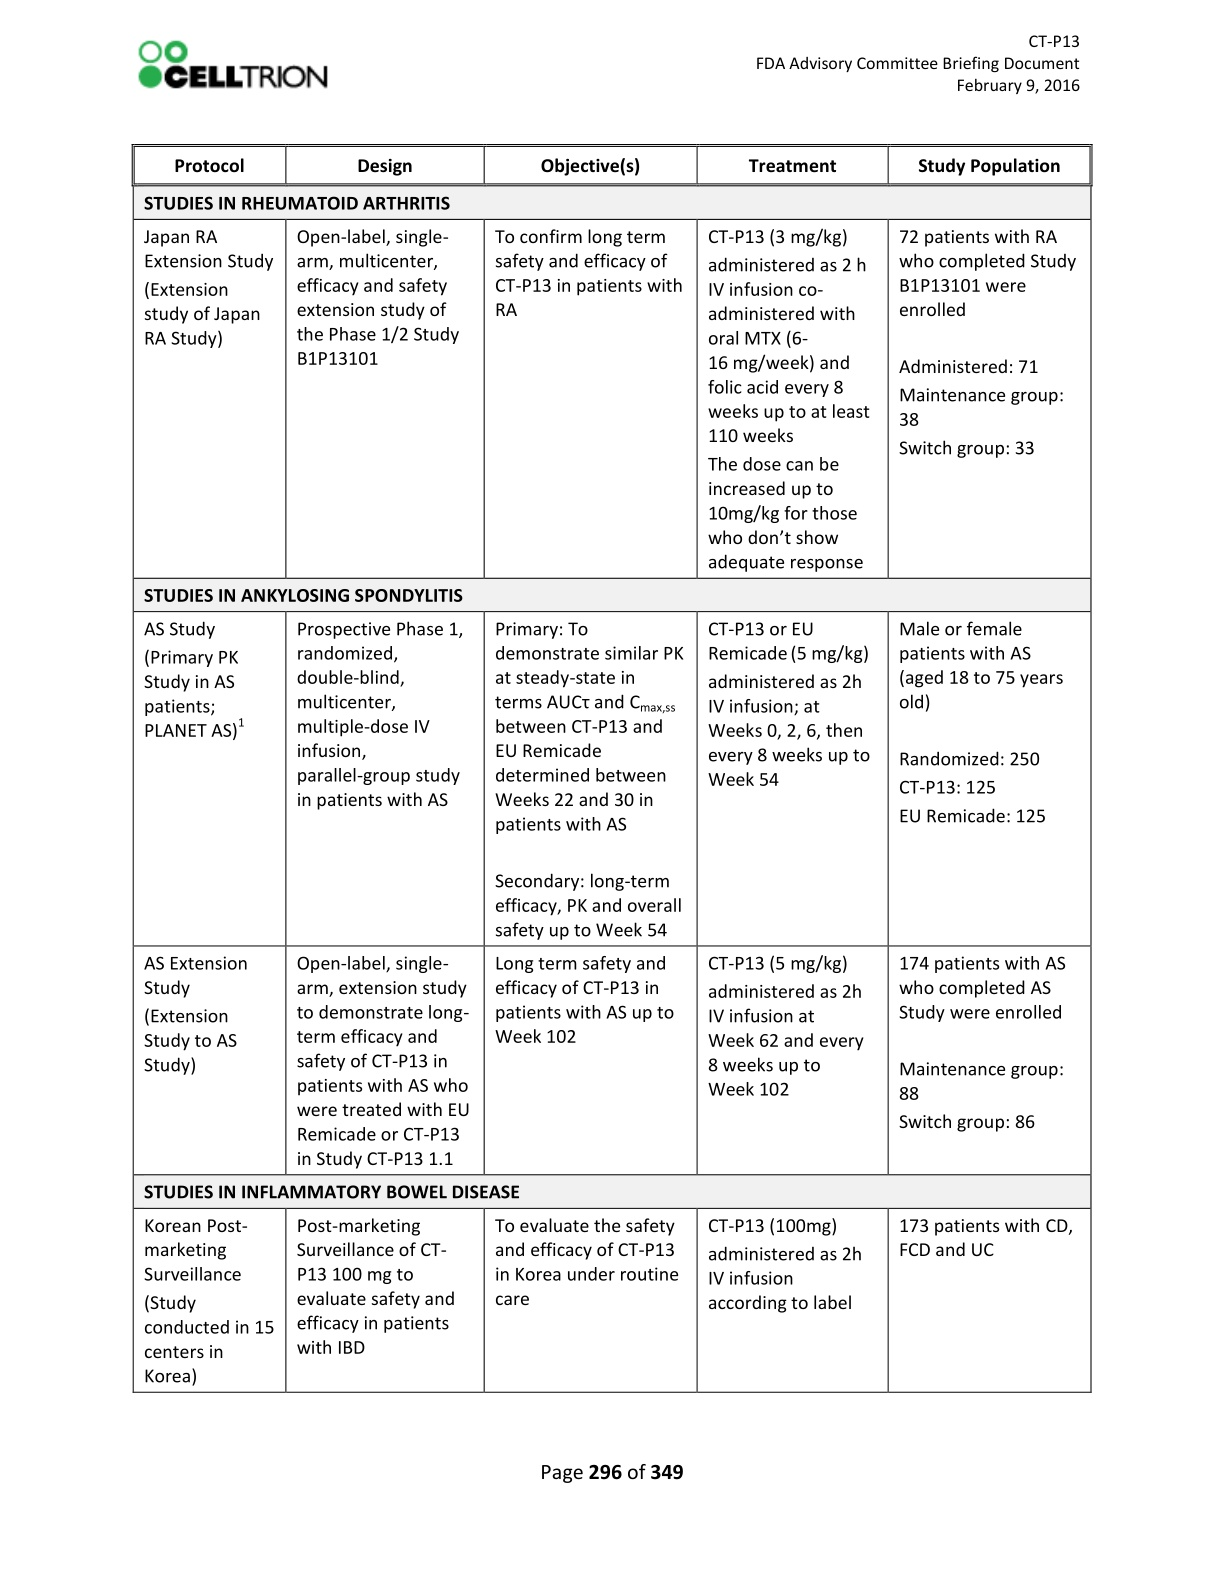merged_cells: (131, 143, 1093, 1394)
